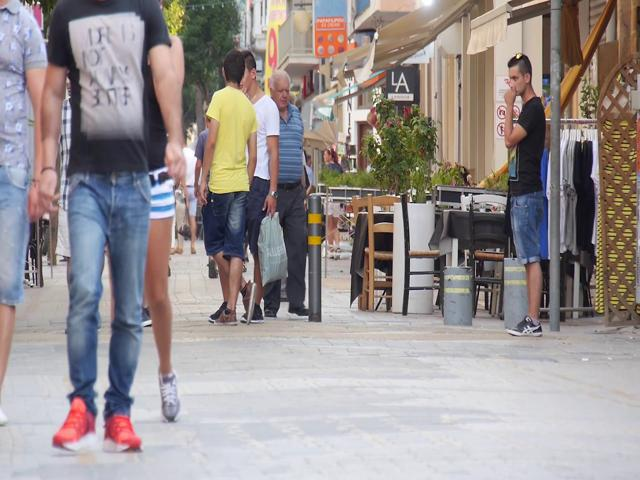shoe: (52, 397, 96, 452), (103, 416, 142, 453), (159, 368, 180, 422), (506, 316, 542, 337), (241, 282, 257, 324), (213, 311, 237, 326), (287, 304, 310, 316)
